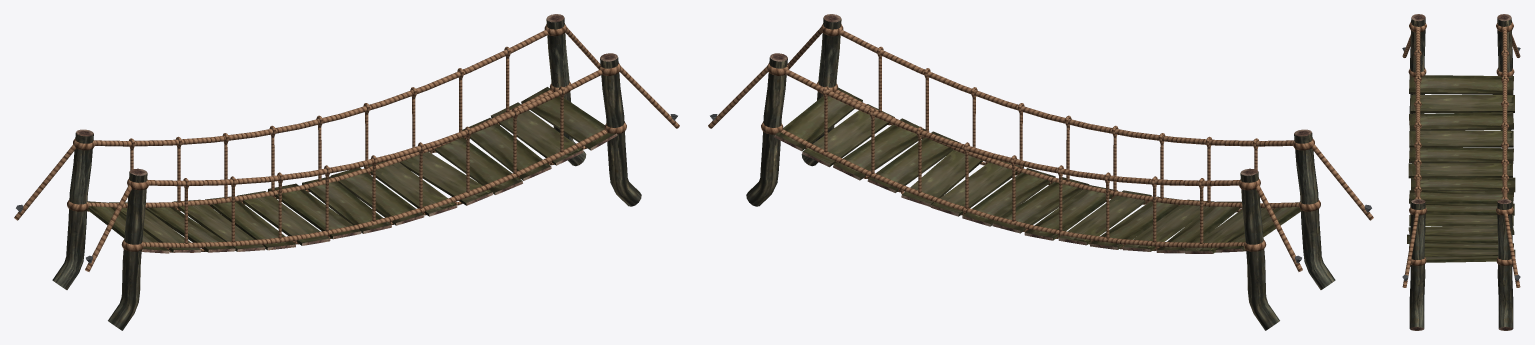
Rendered from bridge-01.fbx.
3 views of the same model, side by side, from view 1: azimuth 30°, elevation 25°; view 2: azimuth 150°, elevation 25°; view 3: azimuth 270°, elevation 25° (orthographic). The views are drawn at different scales.
Parts seen in each view (by area): view 1: NurbsPath.004; view 2: NurbsPath.004; view 3: NurbsPath.004.
Boxes of the visible parts, box(x1,y1,x2,y2) form: NurbsPath.004: box(14, 14, 679, 330); NurbsPath.004: box(708, 14, 1373, 330); NurbsPath.004: box(1402, 14, 1520, 330).
Size of the model in its own units: 6.33 by 1.56 by 1.36.
